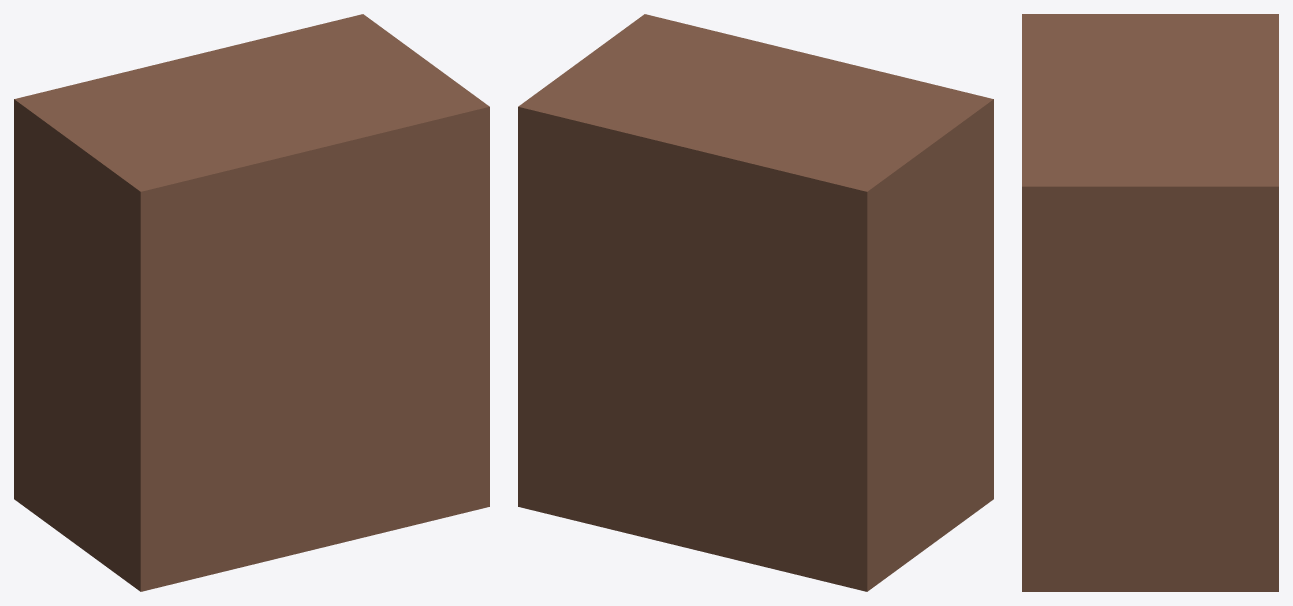
Rendered from prop_forge_lod2.glb.
The picture shows the model from 3 angles, left to right: view 1: azimuth 30°, elevation 25°; view 2: azimuth 150°, elevation 25°; view 3: azimuth 270°, elevation 25°; orthographic projection.
Visible parts, largest first — view 1: prop_forge_lod2; view 2: prop_forge_lod2; view 3: prop_forge_lod2.
Part boxes in pixels (x1=…): prop_forge_lod2: x1=14, y1=14, x2=489, y2=591; prop_forge_lod2: x1=518, y1=14, x2=993, y2=591; prop_forge_lod2: x1=1022, y1=14, x2=1278, y2=591.
Size of the model in its own units: 2.1 by 2.3 by 1.32.
